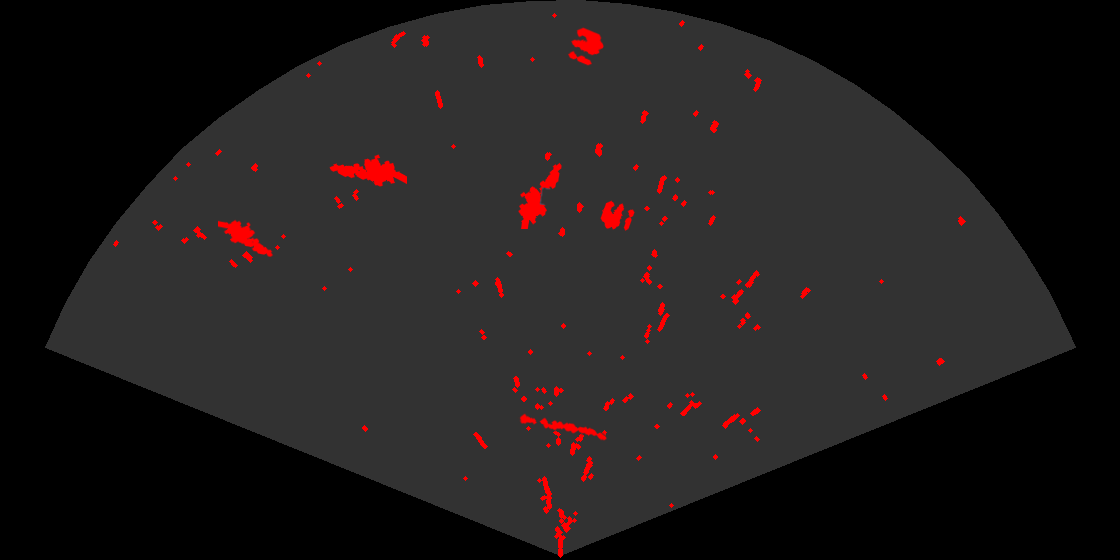ball: (566, 26, 605, 67), (599, 199, 636, 232)
chain: (517, 412, 608, 442)
frogman: (517, 161, 563, 229), (328, 153, 407, 188), (218, 218, 275, 259)
